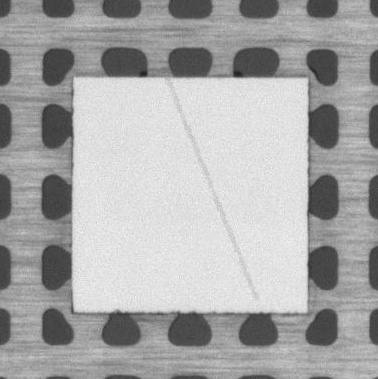DIE_CRACK: (168, 80, 256, 300)
